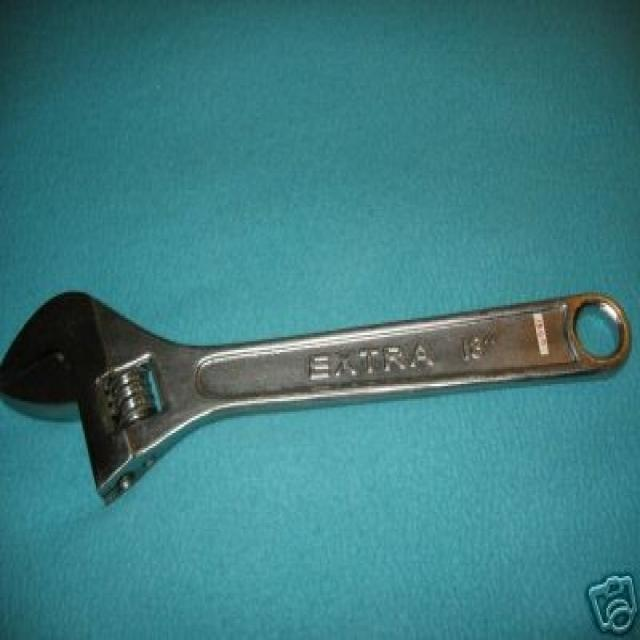wrench: (0, 250, 638, 519)
